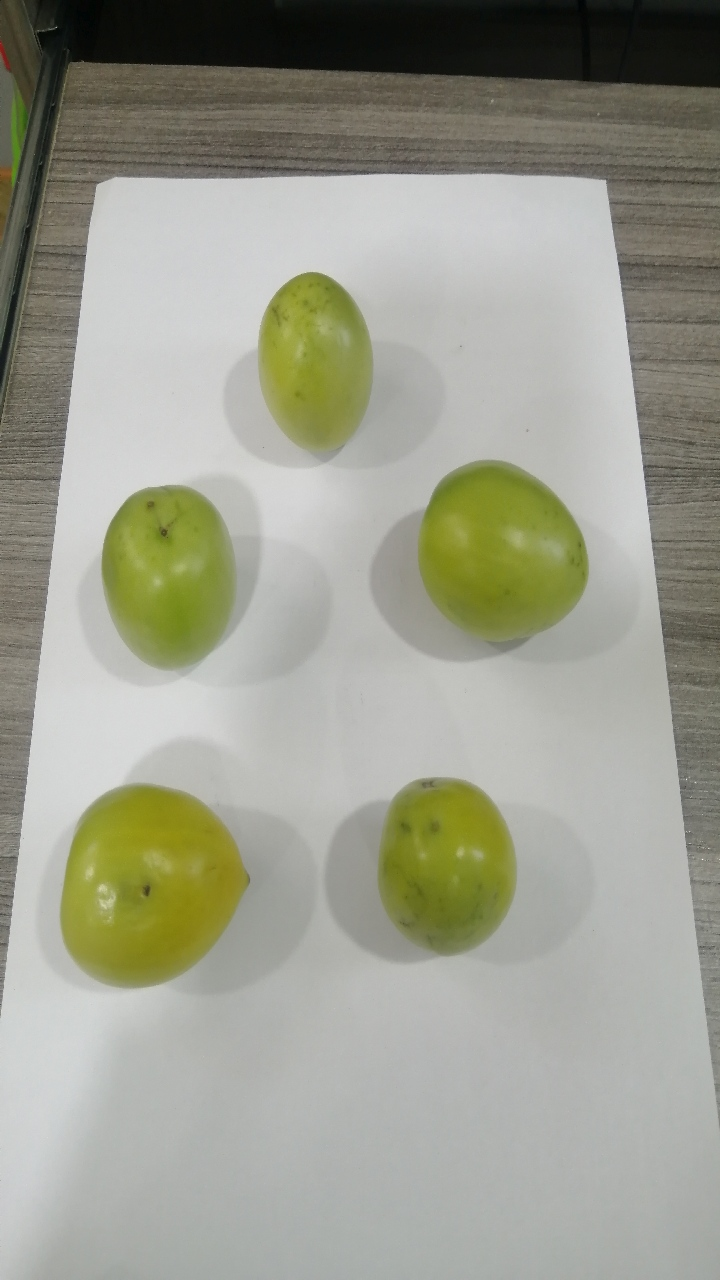tomateVerde: (38, 763, 261, 1020), (78, 459, 284, 685), (394, 452, 611, 662), (346, 739, 524, 972), (238, 249, 384, 479)
